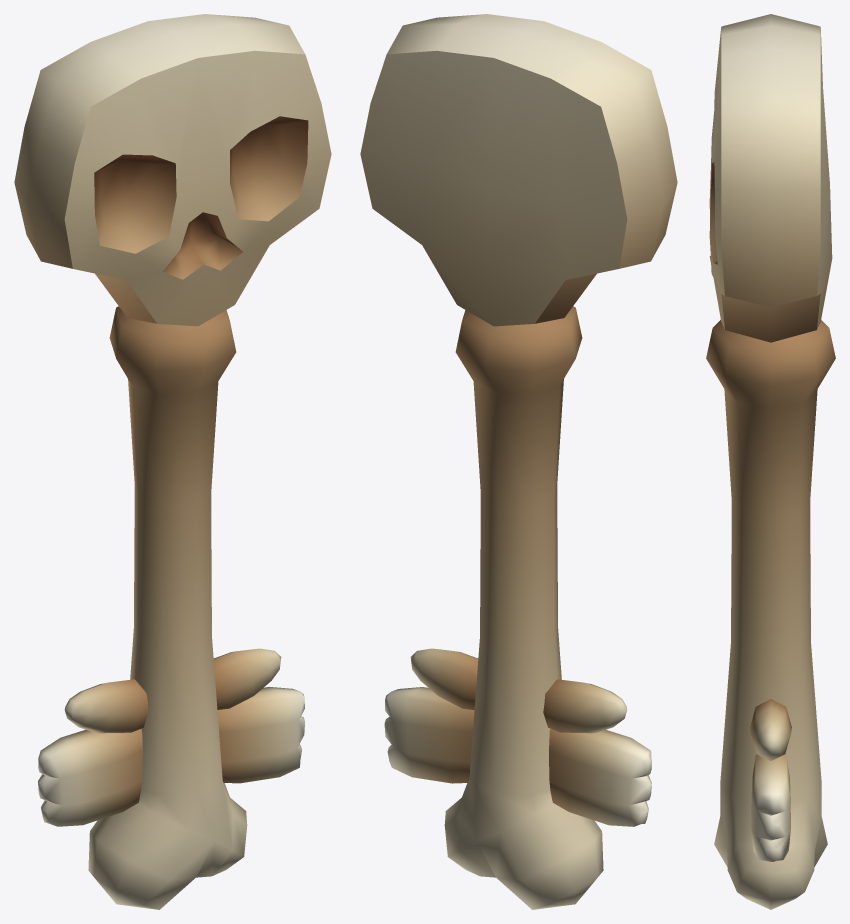
Rendered from Bone_Key_02.glb.
3 renders of one model, left to right at view 1: azimuth 30°, elevation 25°; view 2: azimuth 150°, elevation 25°; view 3: azimuth 270°, elevation 25°, orthographic.
Parts seen in each view (by area): view 1: Bone_Key_02; view 2: Bone_Key_02; view 3: Bone_Key_02.
Boxes of the visible parts, left/top/right/bottom form: Bone_Key_02: left=14, top=14, right=331, bottom=909; Bone_Key_02: left=360, top=14, right=677, bottom=909; Bone_Key_02: left=706, top=14, right=835, bottom=909.
Bounding box in the file's own units: 0.3238 × 0.9266 × 0.1271.
Materials: 1 (1 with a texture image).
